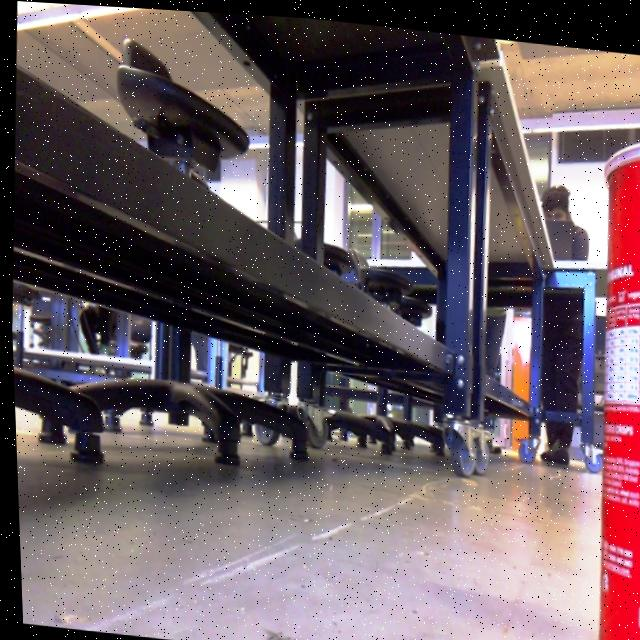redpringles: (570, 104, 640, 640)
